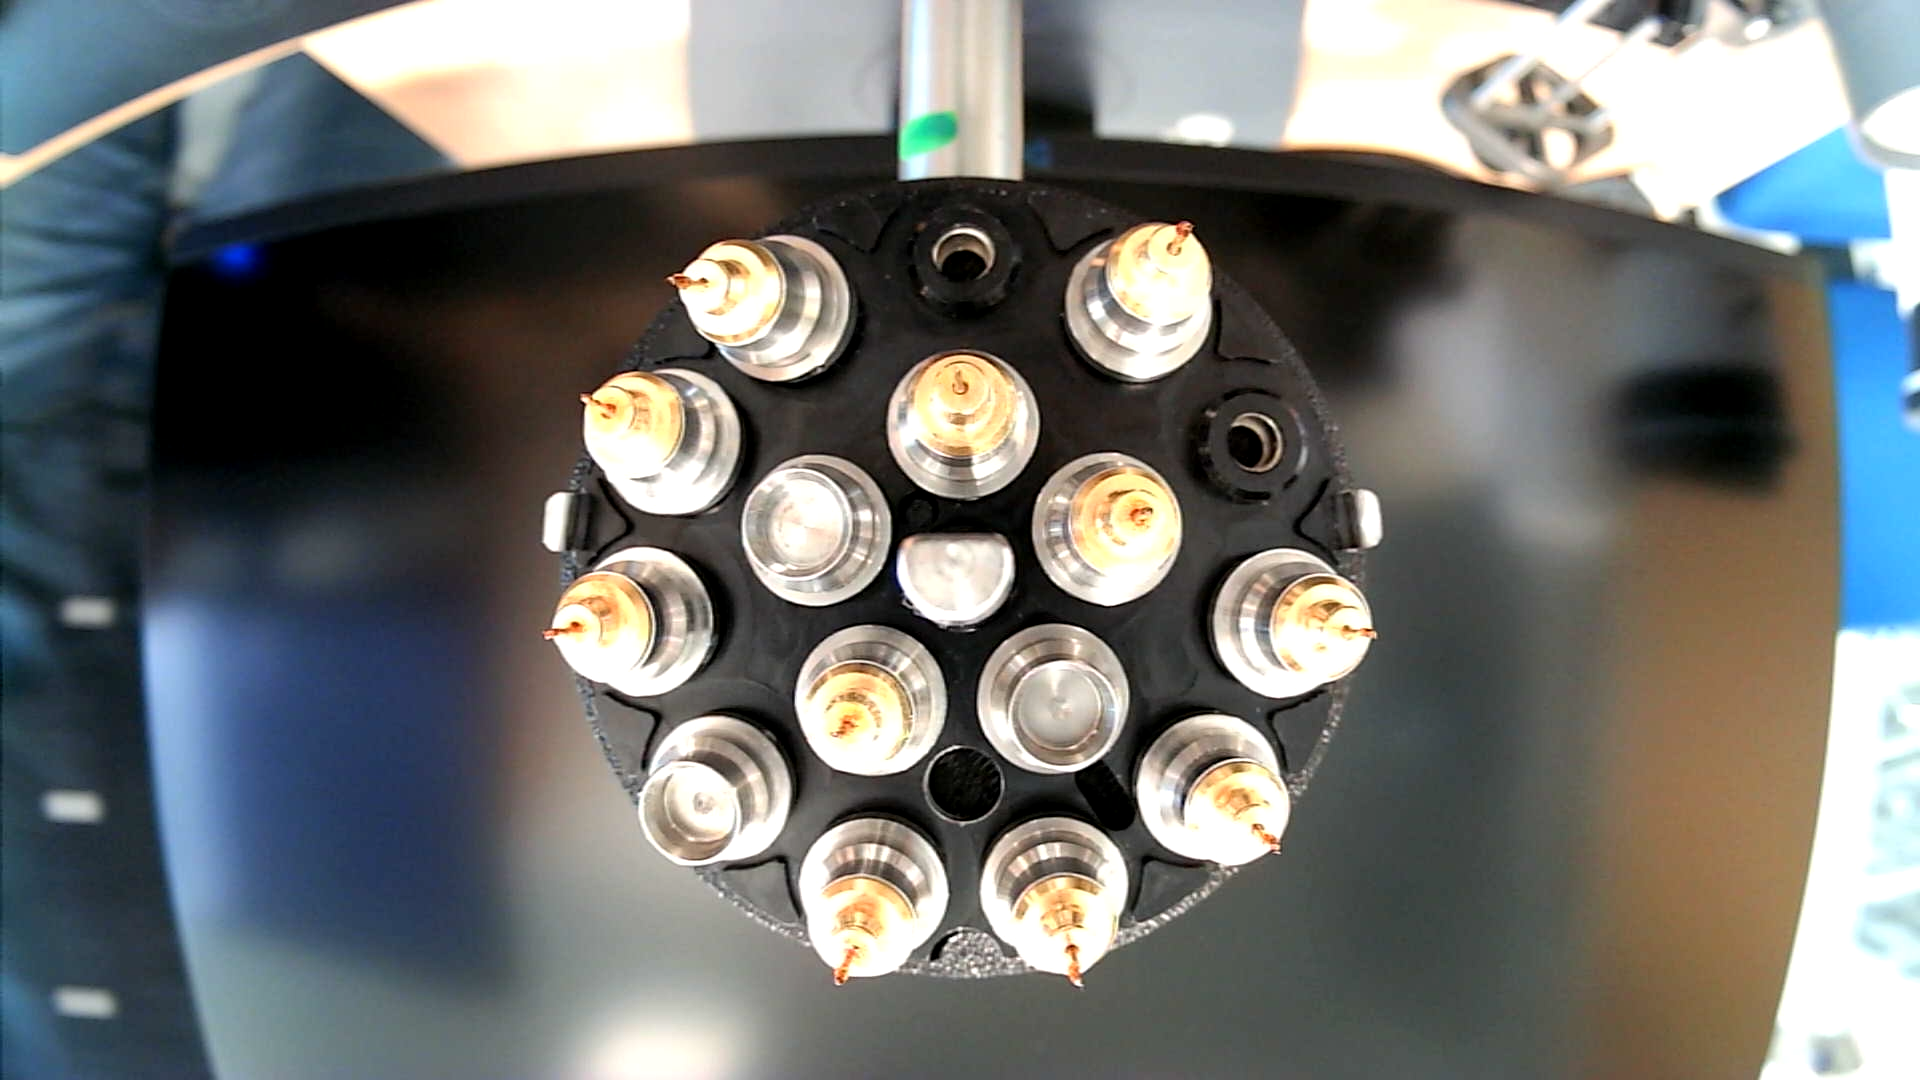adapter: (638, 716, 796, 876), (978, 622, 1133, 781), (740, 455, 894, 613)
empty: (1188, 380, 1317, 506), (895, 196, 1030, 318)
hole: (924, 742, 1007, 831)
misplaced: (665, 235, 855, 386)
pin: (541, 545, 725, 702), (796, 812, 952, 992), (977, 811, 1130, 992), (1207, 546, 1379, 703), (578, 364, 746, 522), (1064, 214, 1215, 385), (1135, 709, 1296, 868), (884, 345, 1044, 502), (793, 624, 952, 781), (1030, 448, 1184, 607)
rod: (891, 525, 1019, 632)
